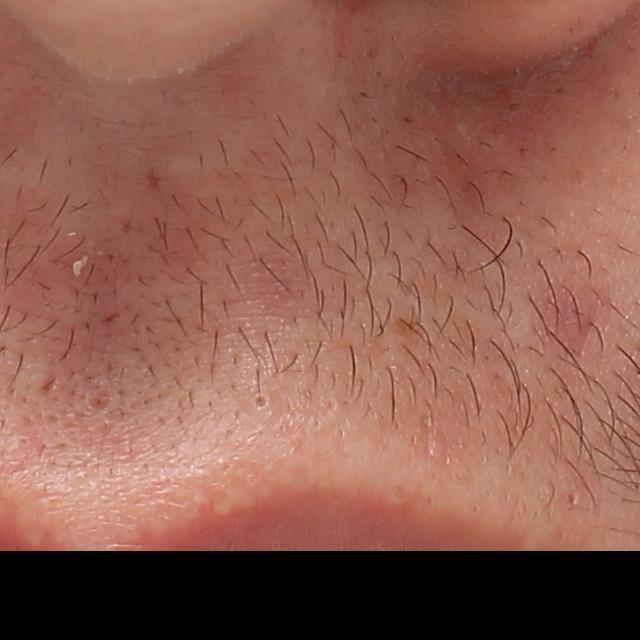comedo: (249, 387, 273, 415)
